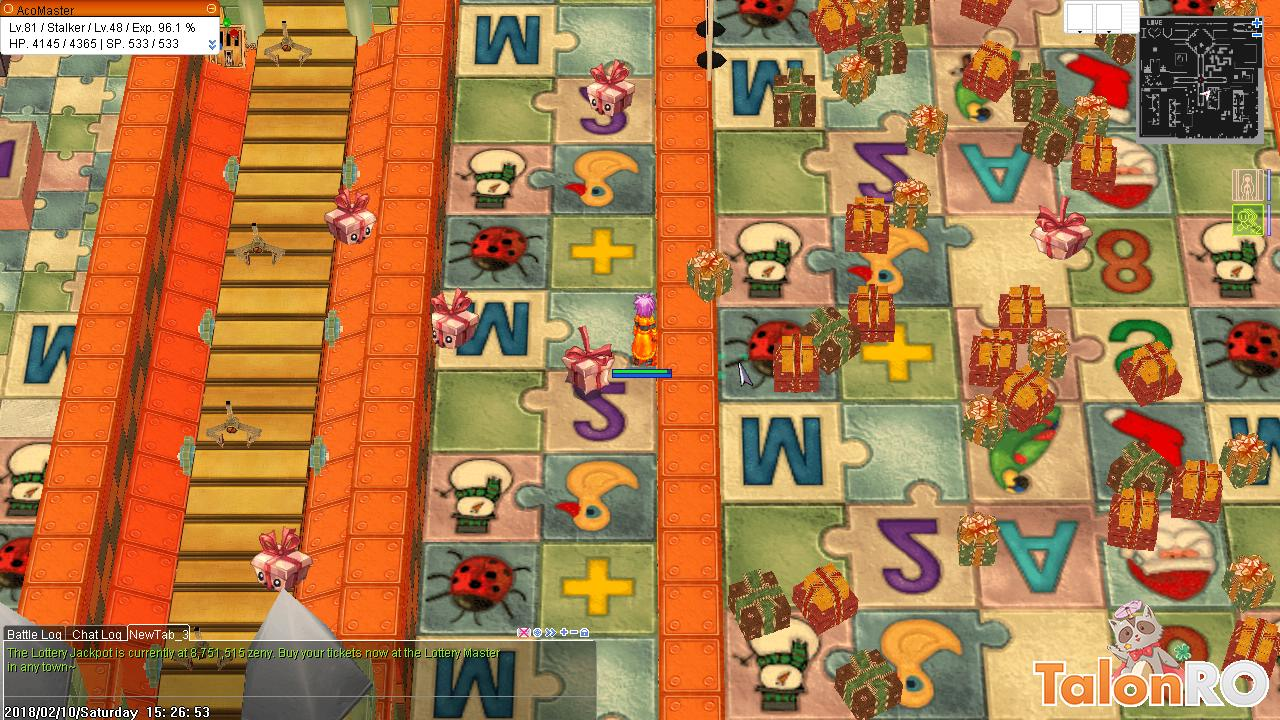myst_case: (1028, 195, 1096, 264), (250, 526, 313, 595), (563, 326, 616, 400), (319, 188, 379, 246), (584, 60, 638, 121), (429, 289, 479, 350)
